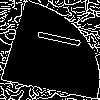I: (25, 24, 83, 51)
